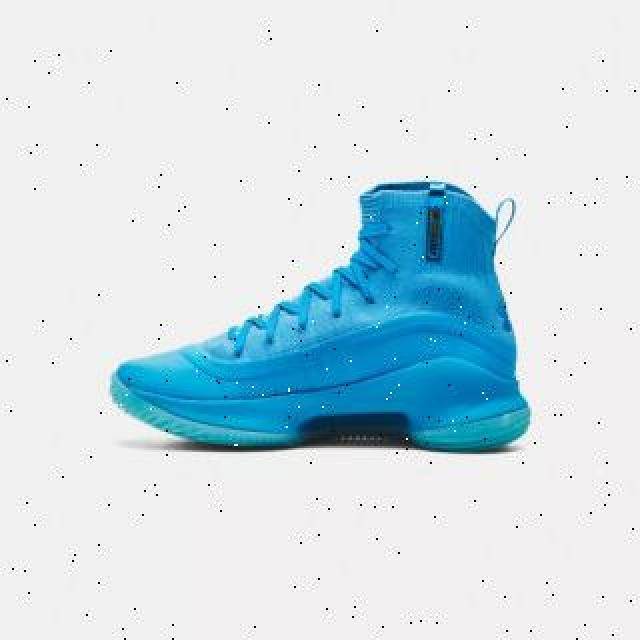shoe: (110, 179, 532, 453)
